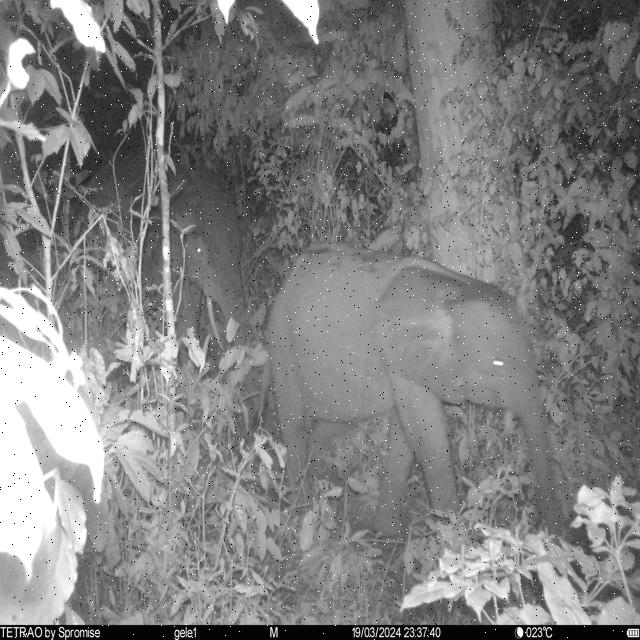calf: (262, 238, 564, 540)
ear: (373, 265, 468, 405)
elephant: (92, 144, 254, 362)
tusk: (204, 296, 224, 352), (501, 408, 515, 439)
